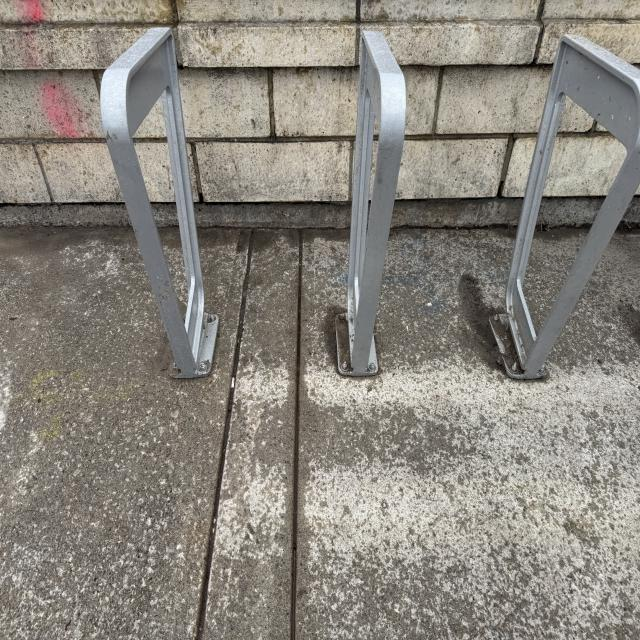Bicycle Rack: (494, 36, 640, 385), (98, 24, 218, 380), (333, 26, 408, 370)
